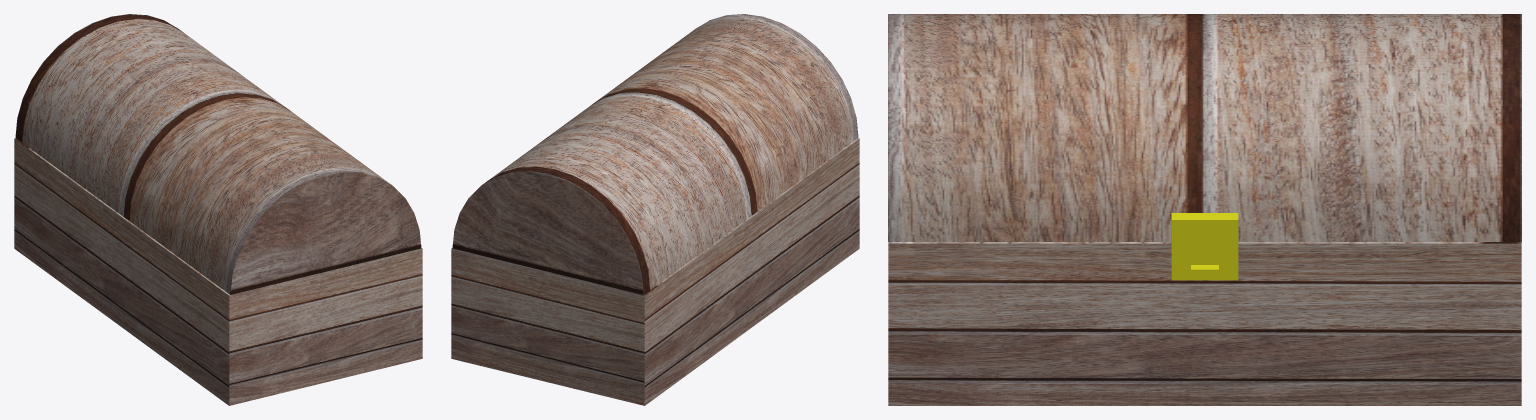
File: chest.fbx
3 views of the same model, side by side, from view 1: azimuth 30°, elevation 25°; view 2: azimuth 150°, elevation 25°; view 3: azimuth 270°, elevation 25° (orthographic). The views are drawn at different scales.
Visible parts, largest first — view 1: Cylinder, Cube; view 2: Cylinder, Cube; view 3: Cylinder, Cube, Cube.001.
Boxes of the visible parts, left/top/right/bottom form: Cylinder: left=15, top=14, right=421, bottom=294; Cube: left=14, top=138, right=422, bottom=405; Cylinder: left=452, top=14, right=858, bottom=294; Cube: left=451, top=138, right=859, bottom=405; Cylinder: left=888, top=14, right=1521, bottom=241; Cube: left=888, top=242, right=1521, bottom=405; Cube.001: left=1171, top=213, right=1238, bottom=280.
Bounding box in the file's own units: 386 × 378 × 707.
